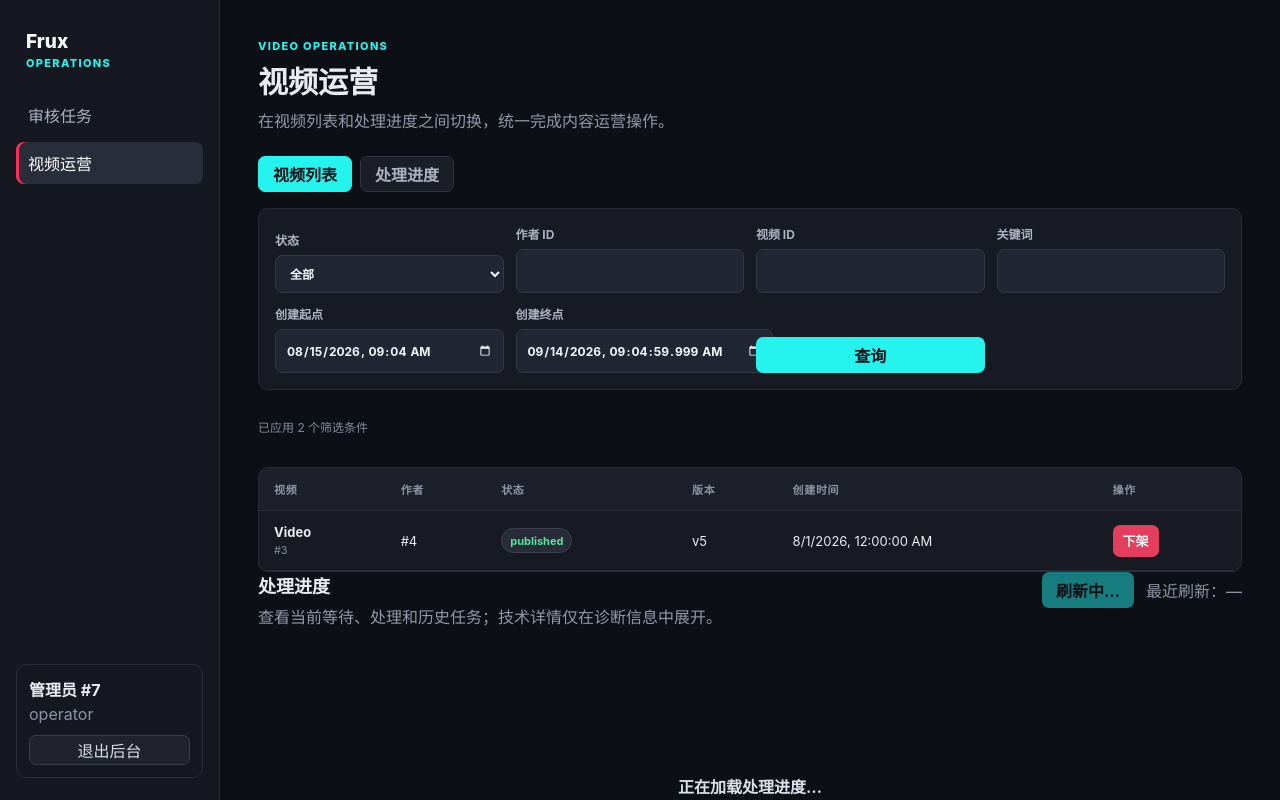
Scenario: admin content operations workspace › shows forbidden and stale-version outcomes without reporting success
Click the button "下架".
click(1136, 540)  # box [1113,524,1159,556]
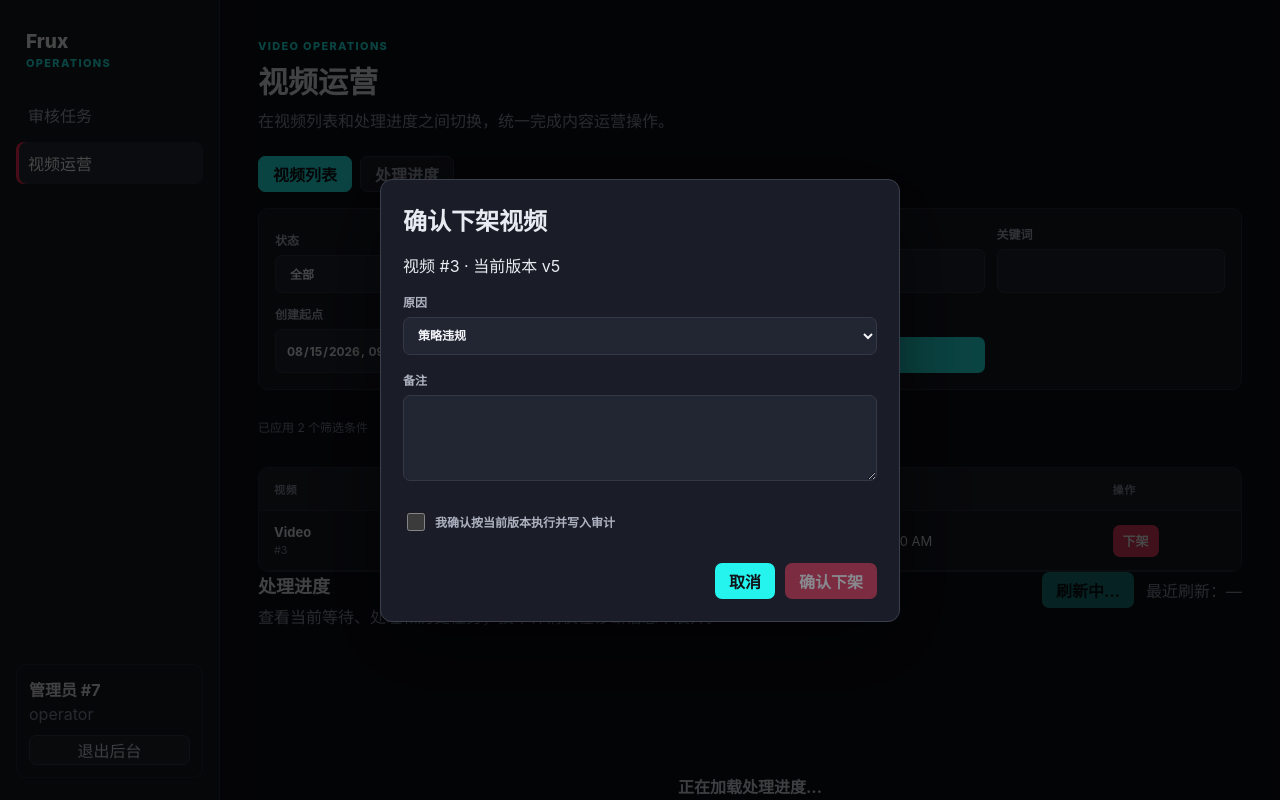
Click the checkbox labelled "我确认按当前版本执行并写入审计".
click(416, 522)  # box [407,500,425,544]
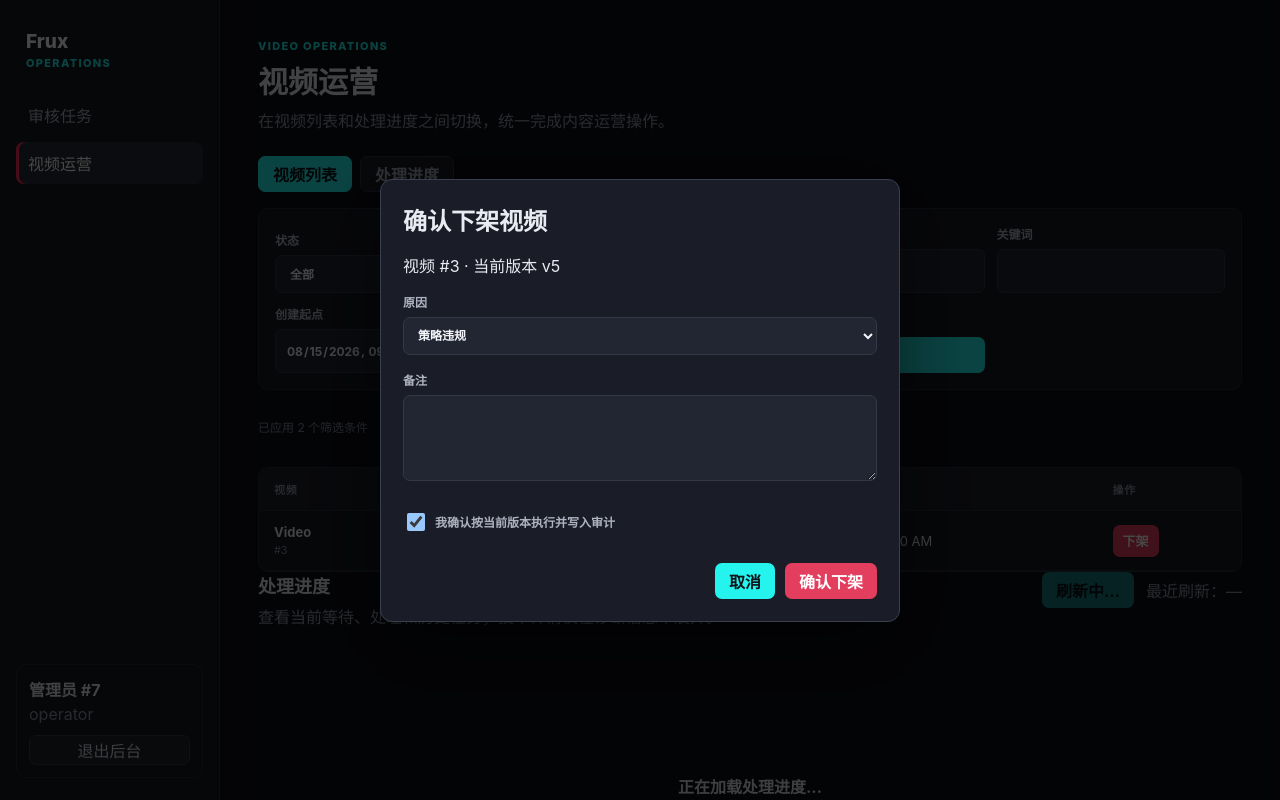
Click the button "确认下架".
click(831, 580)  # box [785,562,877,598]
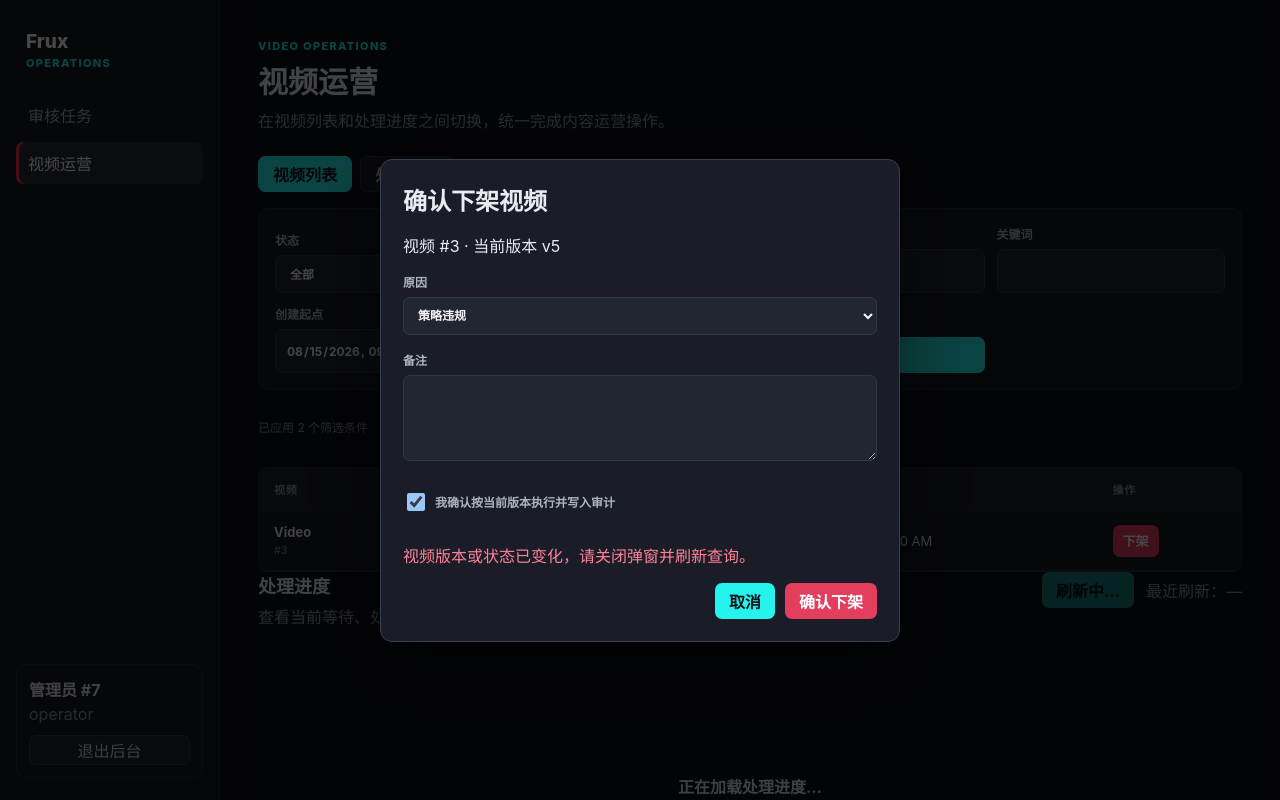
Now the text "版本或状态已变化" is shown, box [403,546,755,566]
Click the button "取消".
click(745, 600)  # box [715,582,775,618]
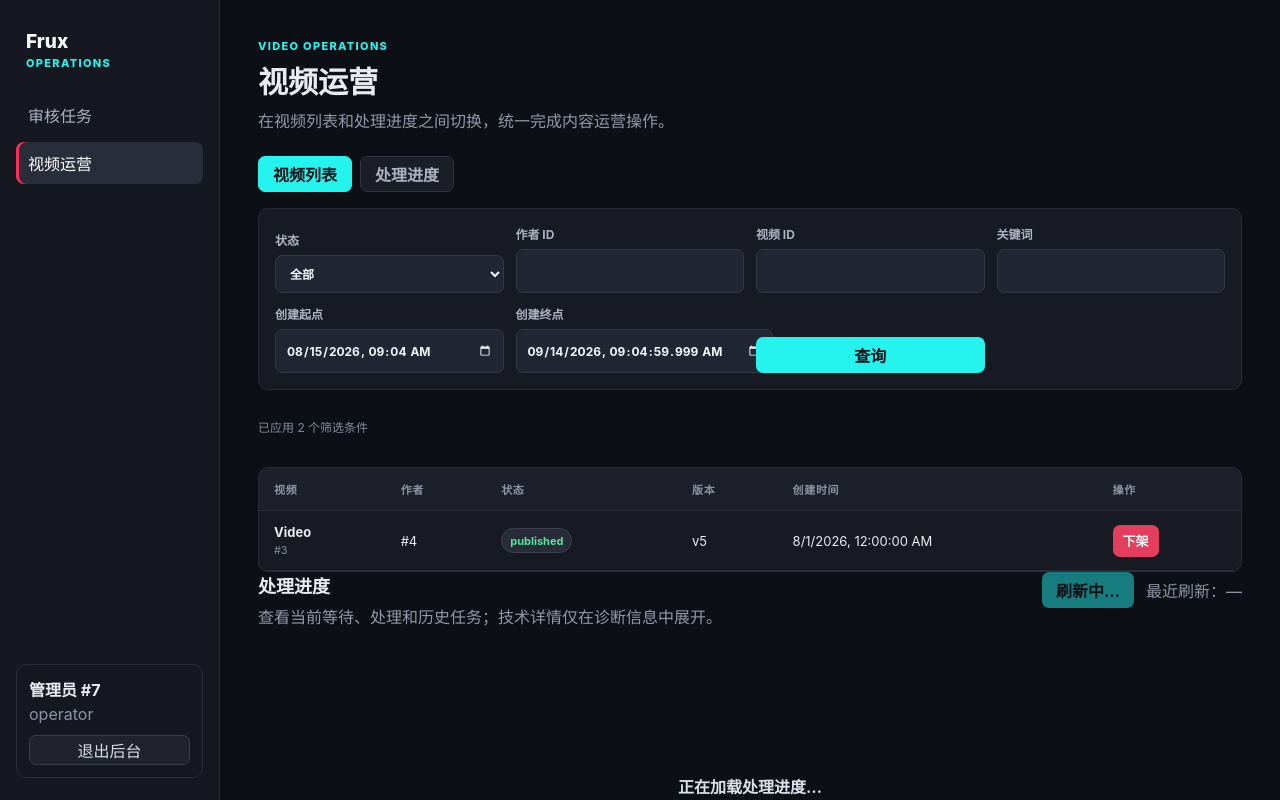
Submit the form, box [258,208,1242,390]
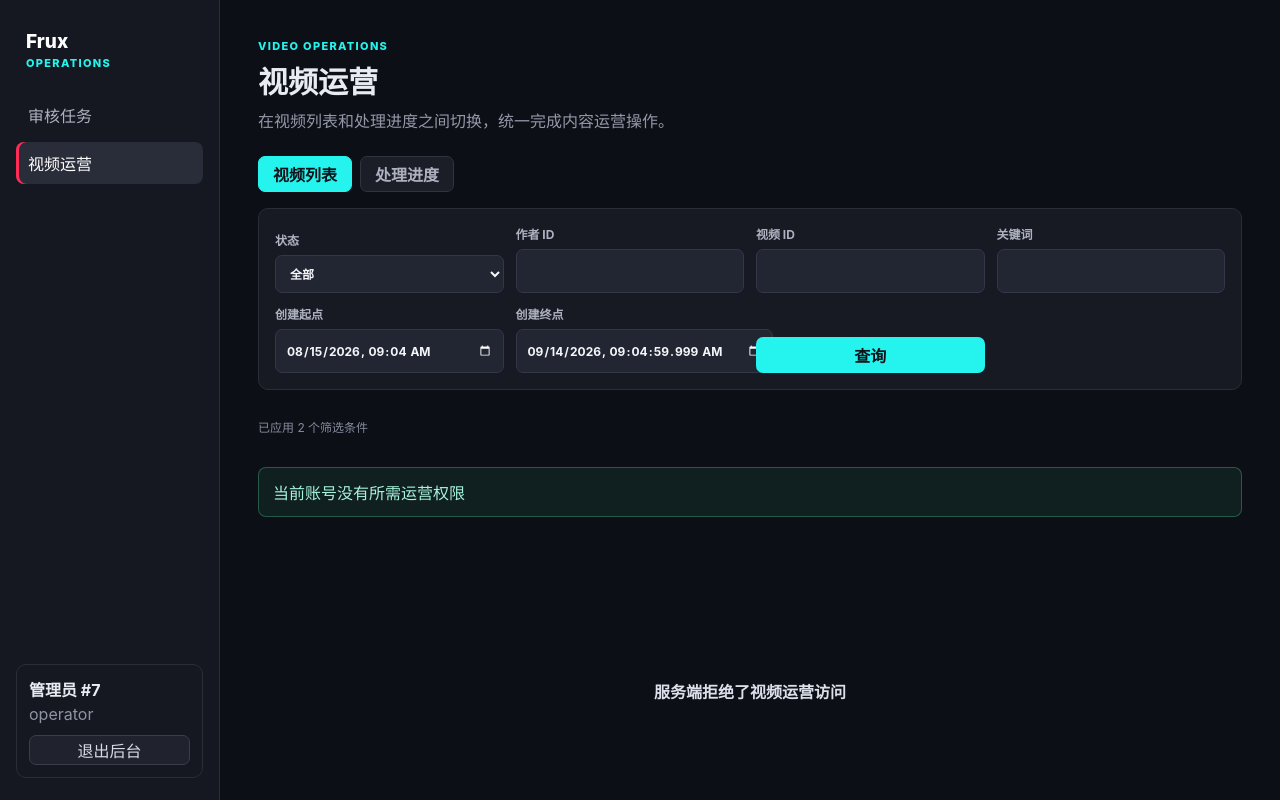
Now the text "服务端拒绝了视频运营访问" is shown, box [654,679,846,703]
